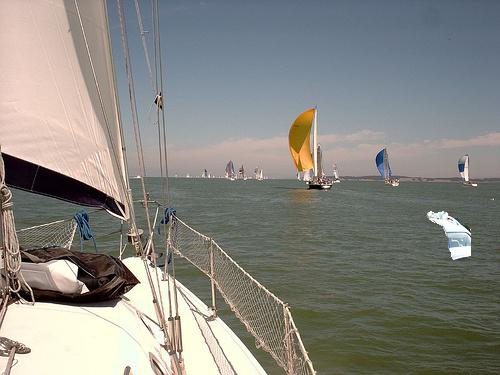tampered: (427, 212, 471, 260)
